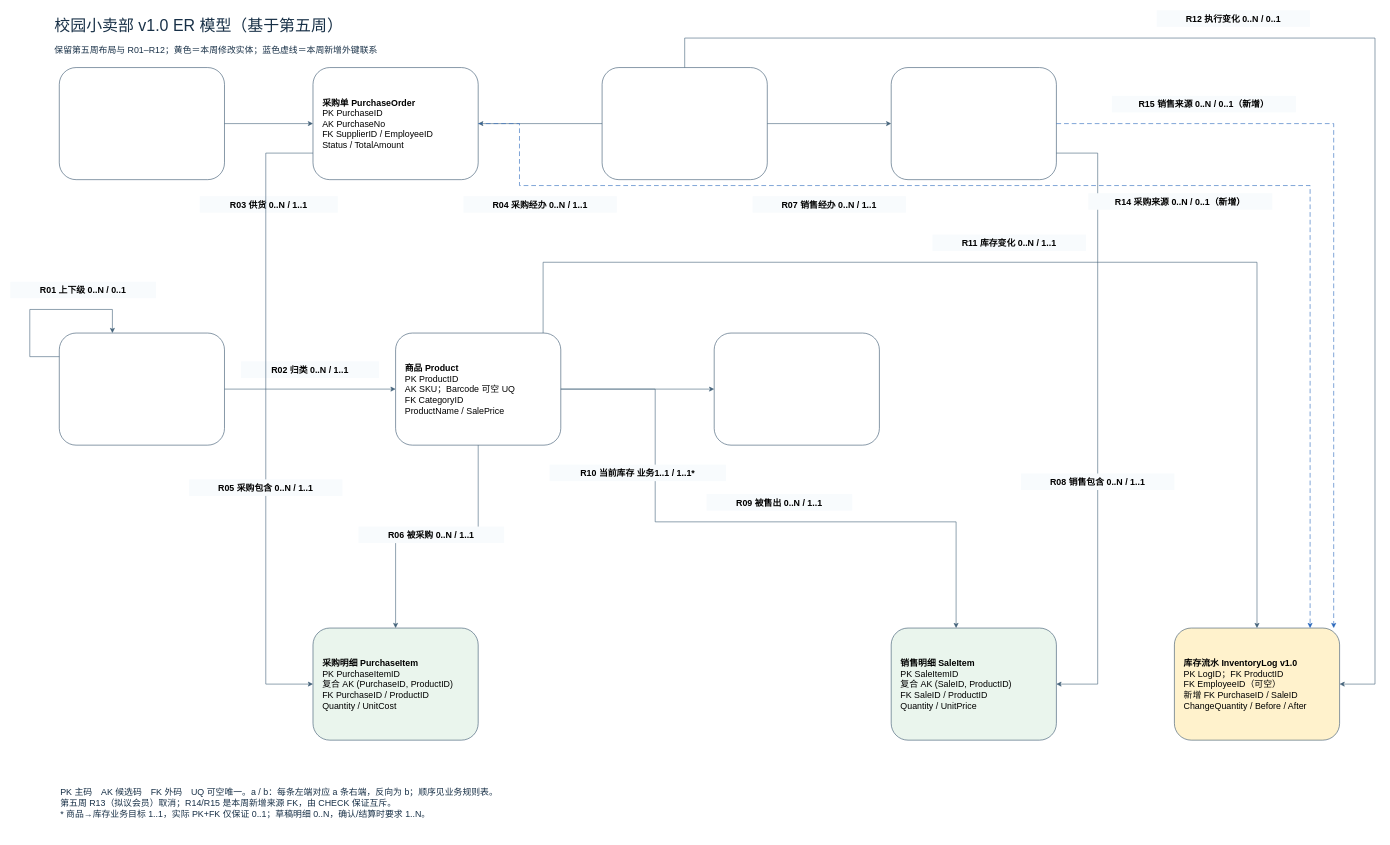
Some shapes in this 1390 by 845 pixel diagram are drawn without their labels. Each missing label, with the box of its shape:
供应商 Supplier PK SupplierID AK SupplierCode SupplierName ContactName / Phone: (59, 67, 224, 180)
分类 Category PK CategoryID AK CategoryCode FK ParentID（可空） CategoryName / Status: (59, 332, 224, 445)
员工 Employee PK EmployeeID AK EmployeeNo EmployeeName / RoleName Status: (602, 67, 767, 180)
库存 Inventory PK+FK ProductID Quantity MinQuantity 业务目标：每商品一行: (714, 332, 879, 445)
销售单 SaleOrder PK SaleID AK SaleNo FK EmployeeID Status / PaymentMethod: (891, 67, 1056, 180)
